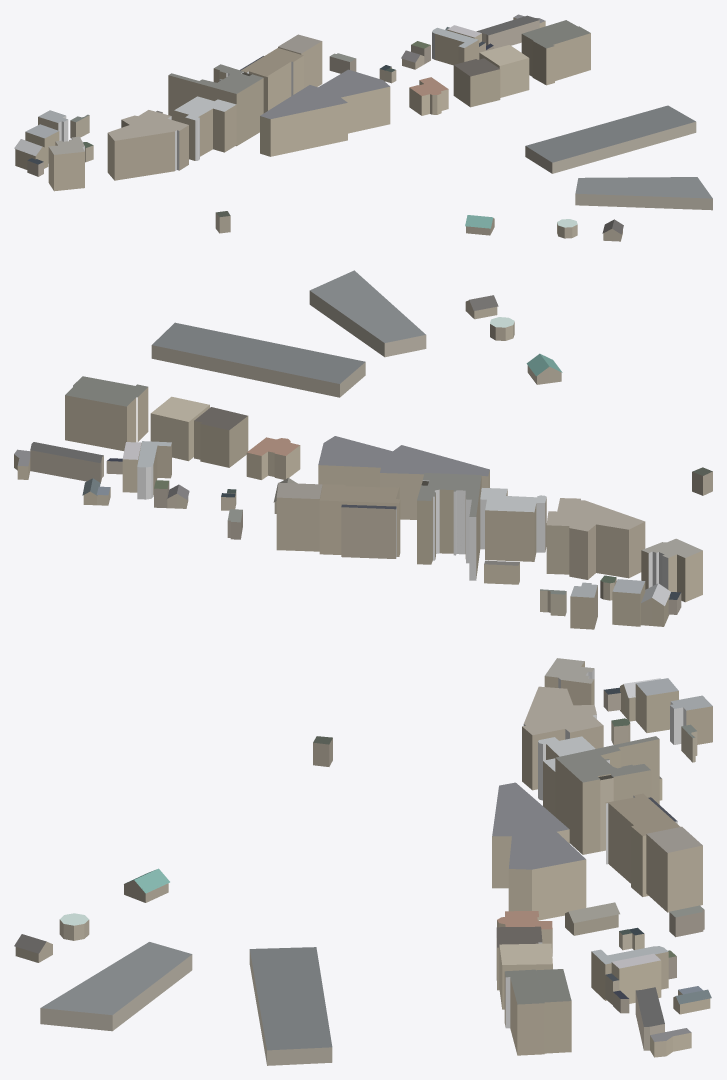
3 views of the same model, one above another, from view 1: azimuth 30°, elevation 25°; view 2: azimuth 150°, elevation 25°; view 3: azimuth 270°, elevation 25° (orthographic). The views are drawn at different scales.
Visible parts, largest first — view 1: tuile; view 2: tuile; view 3: tuile.
Boxes of the visible parts, x1,y1,x2,y2 form: tuile: (14,14,712,241); tuile: (14,270,712,629); tuile: (14,658,712,1065).
Size of the model in its own units: 249 by 23.42 by 201.
